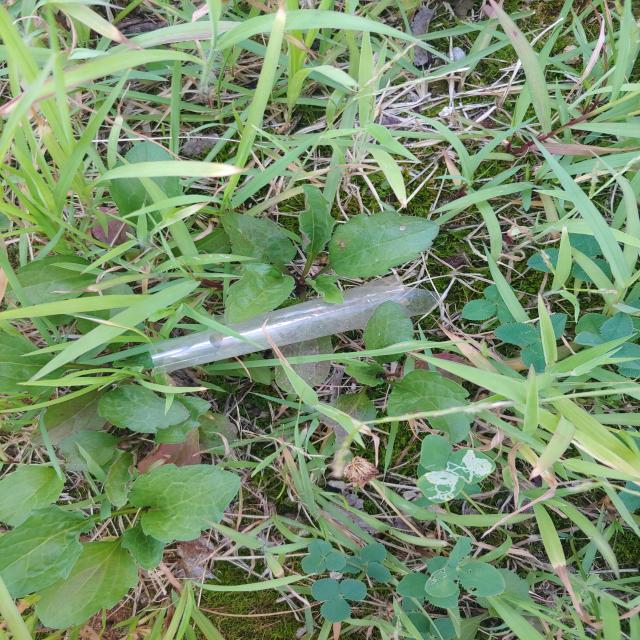litter: (133, 280, 451, 375)
